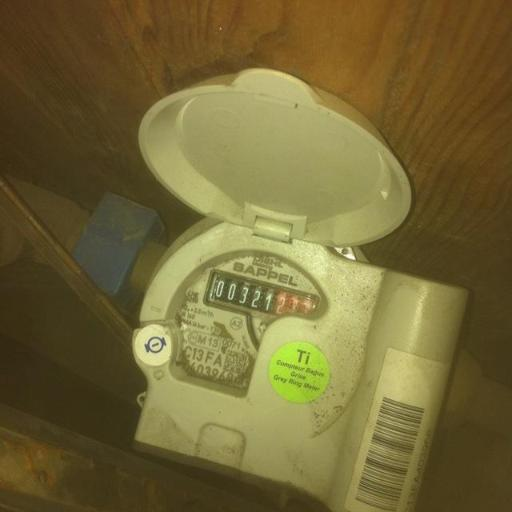0: (222, 277, 241, 305), (211, 275, 229, 301)
1: (259, 286, 278, 314)
2: (271, 290, 292, 318), (247, 285, 266, 312)
3: (235, 281, 254, 308)
border_water_meter_number: (201, 267, 321, 333)
